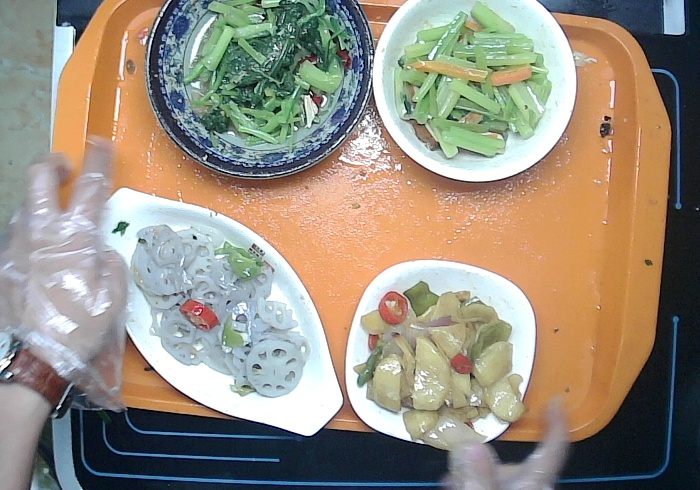ZNLD-Qing_Hua_Wan: (131, 1, 378, 188)
ZNLD-Si_Fang_Wan: (336, 255, 542, 458)
ZNLD-Tang_Wan: (366, 1, 580, 189)
ZNLD-Yu_Pan: (93, 181, 349, 448)
